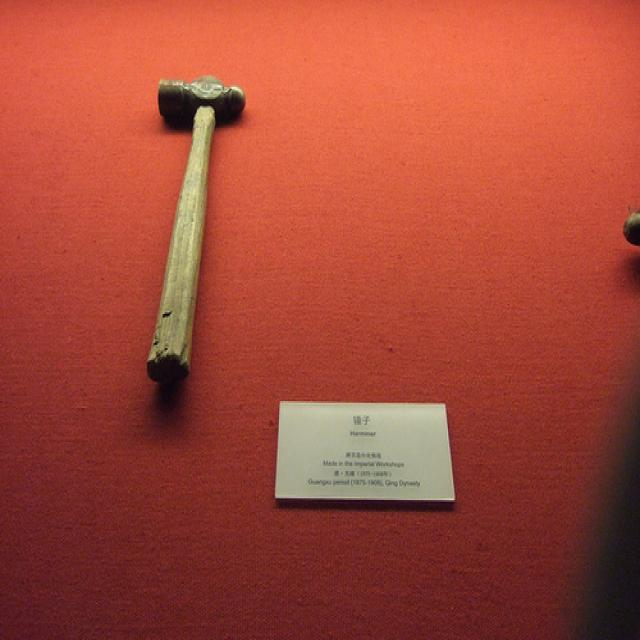hammer: (138, 66, 250, 394)
